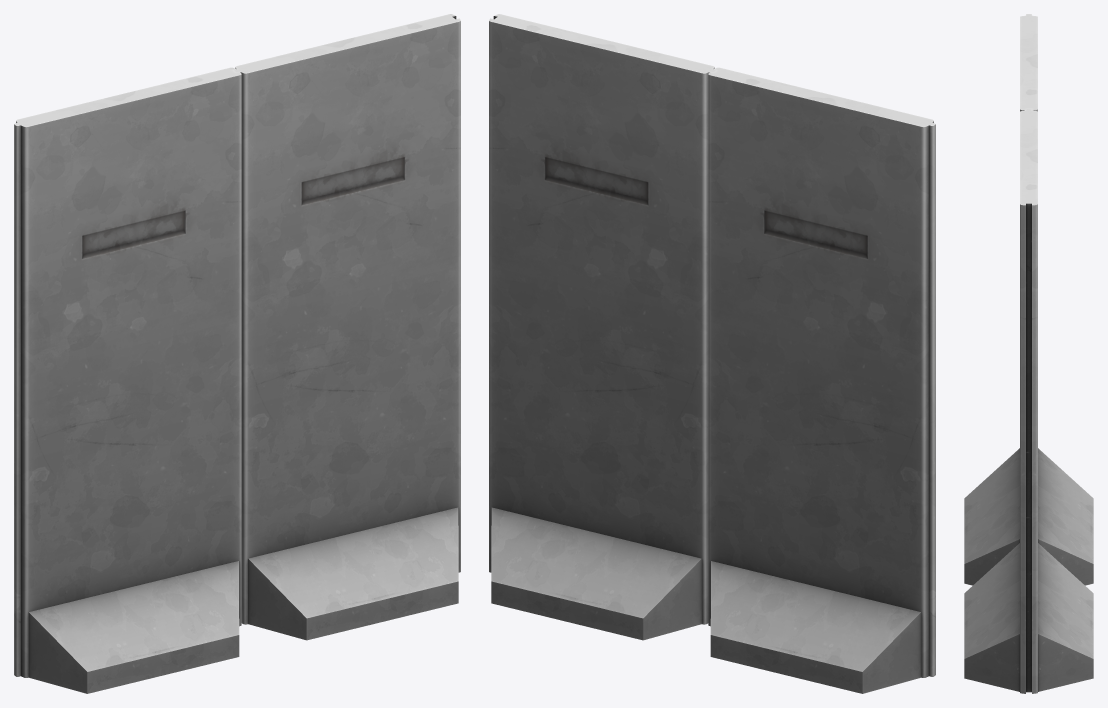
Rendered from BarrierConcrete01_4.FBX.
The picture shows the model from 3 angles, left to right: view 1: azimuth 30°, elevation 25°; view 2: azimuth 150°, elevation 25°; view 3: azimuth 270°, elevation 25°; orthographic projection. The views are drawn at different scales.
Parts seen in each view (by area): view 1: BarrierConcrete01_4; view 2: BarrierConcrete01_4; view 3: BarrierConcrete01_4.
Part boxes in pixels (<box>): BarrierConcrete01_4: <box>14,14,460,693</box>; BarrierConcrete01_4: <box>489,14,935,693</box>; BarrierConcrete01_4: <box>964,14,1093,693</box>.
Size of what is drawn, in the model's own units: 2.52 by 3 by 0.7195.
